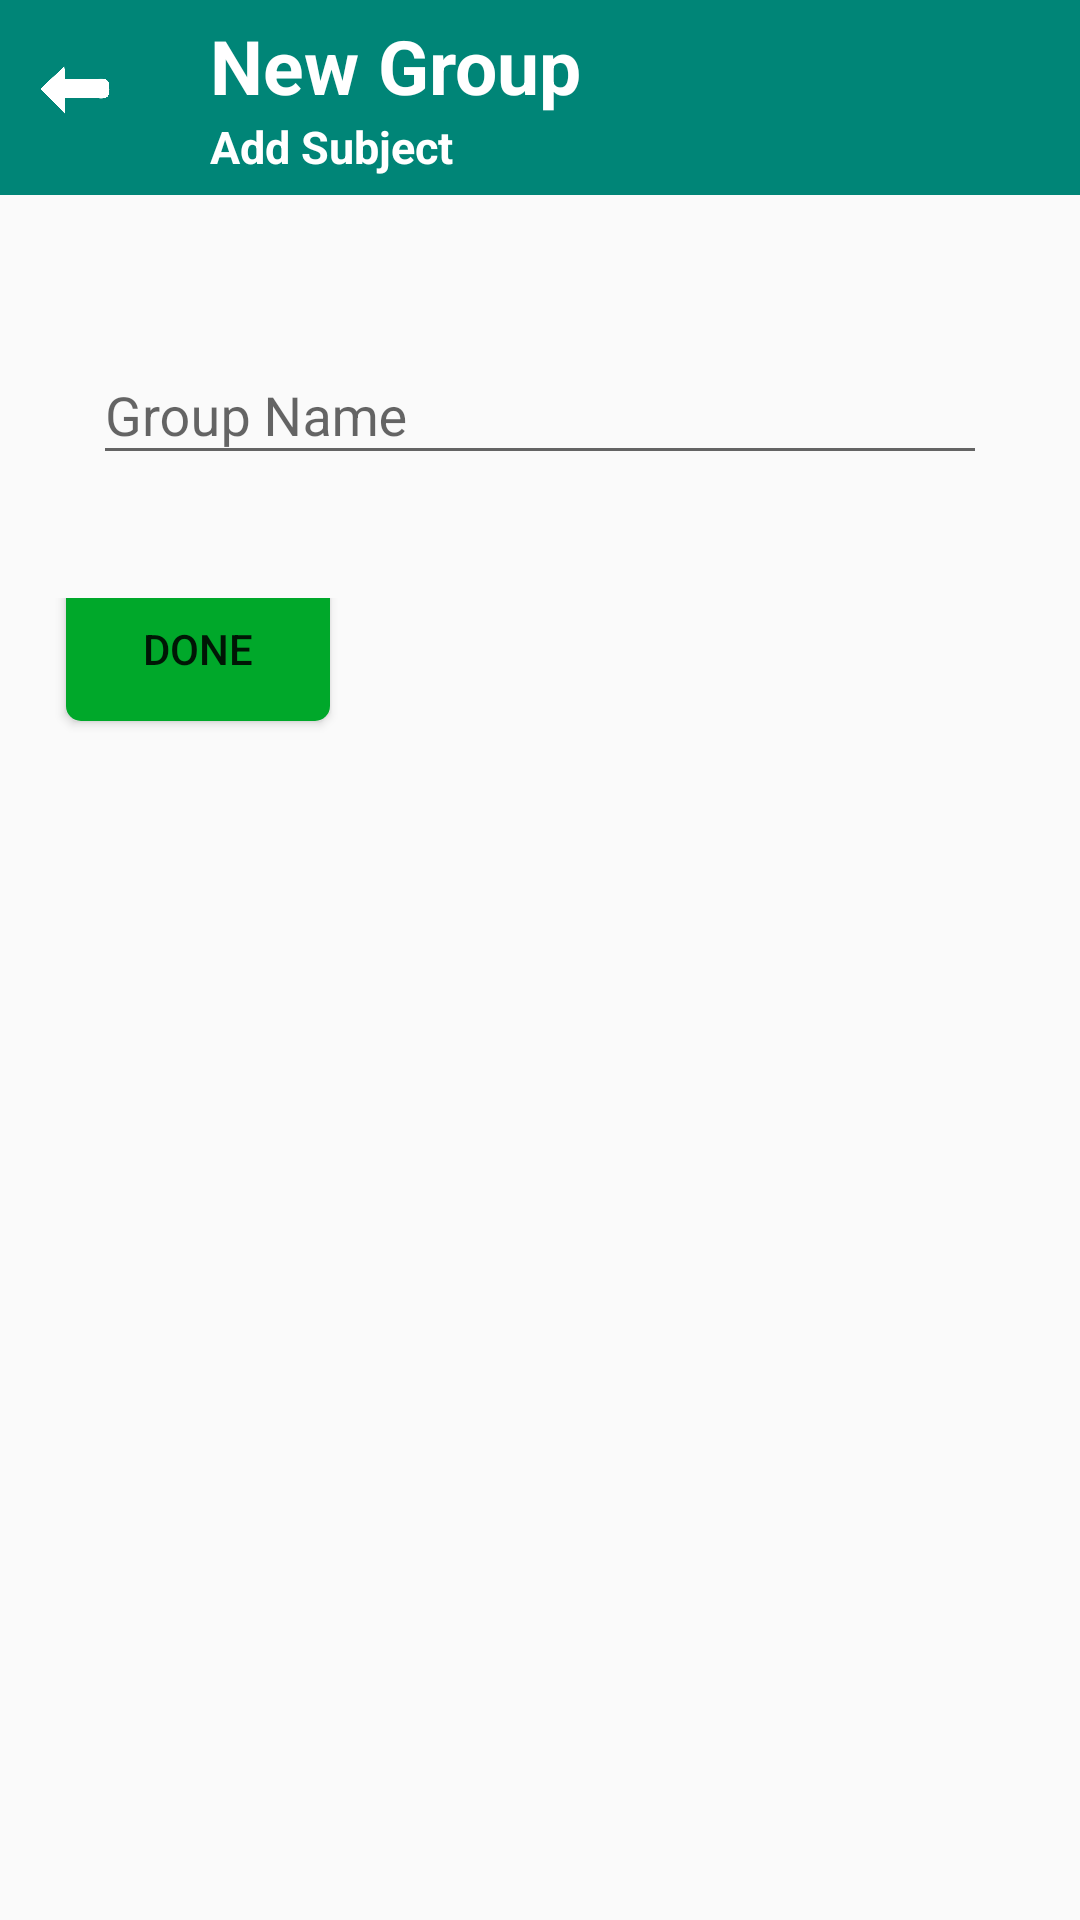

Named icons in this screenshot (1080px×1920px) and their centers, (x,y):
backarrow: (75,90)
